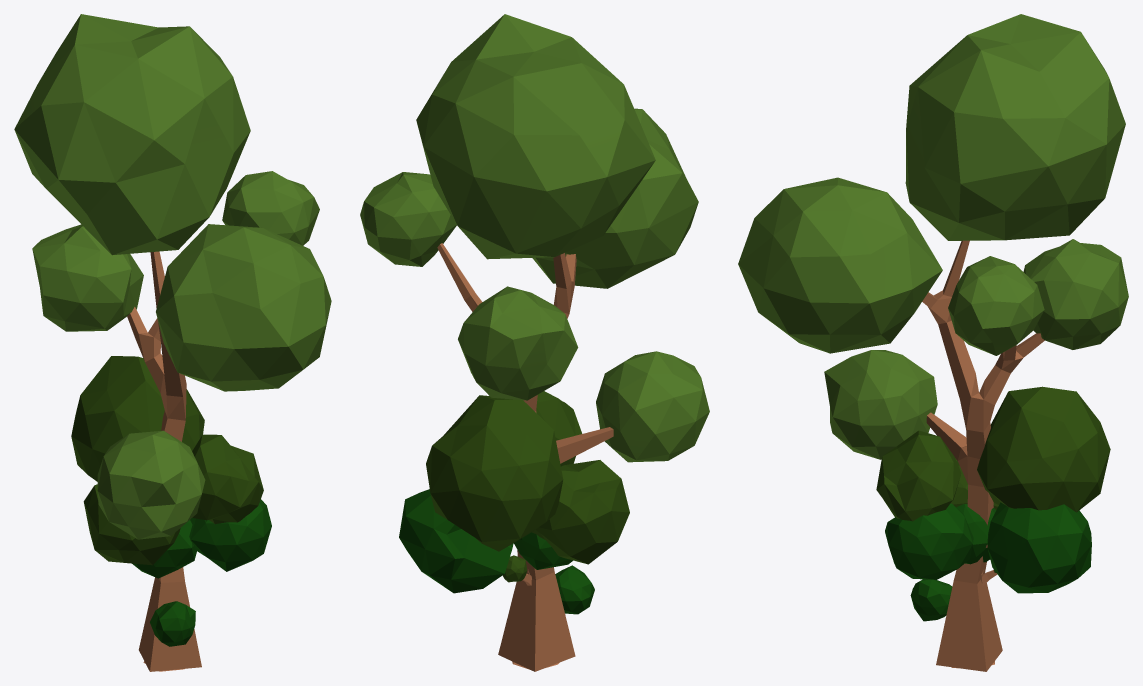
File: Trees.fbx
3 views of the same model, side by side, from view 1: azimuth 30°, elevation 25°; view 2: azimuth 150°, elevation 25°; view 3: azimuth 270°, elevation 25° (orthographic). The views are drawn at different scales.
Parts seen in each view (by area): view 1: Tree_3, Tree_1, Tree_2; view 2: Tree_3, Tree_1, Tree_2; view 3: Tree_3, Tree_1, Tree_2.
Part boxes in pixels (x1=…): Tree_3: x1=14, y1=14, x2=331, y2=671; Tree_1: x1=71, y1=356, x2=263, y2=671; Tree_2: x1=132, y1=499, x2=271, y2=646; Tree_3: x1=360, y1=14, x2=709, y2=671; Tree_1: x1=426, y1=391, x2=629, y2=669; Tree_2: x1=399, y1=489, x2=594, y2=614; Tree_3: x1=738, y1=14, x2=1128, y2=671; Tree_1: x1=876, y1=386, x2=1110, y2=668; Tree_2: x1=885, y1=502, x2=1091, y2=621.
Bounding box in the file's own units: 1022 × 2259 × 1285.
Materials: 1 (1 with a texture image).
